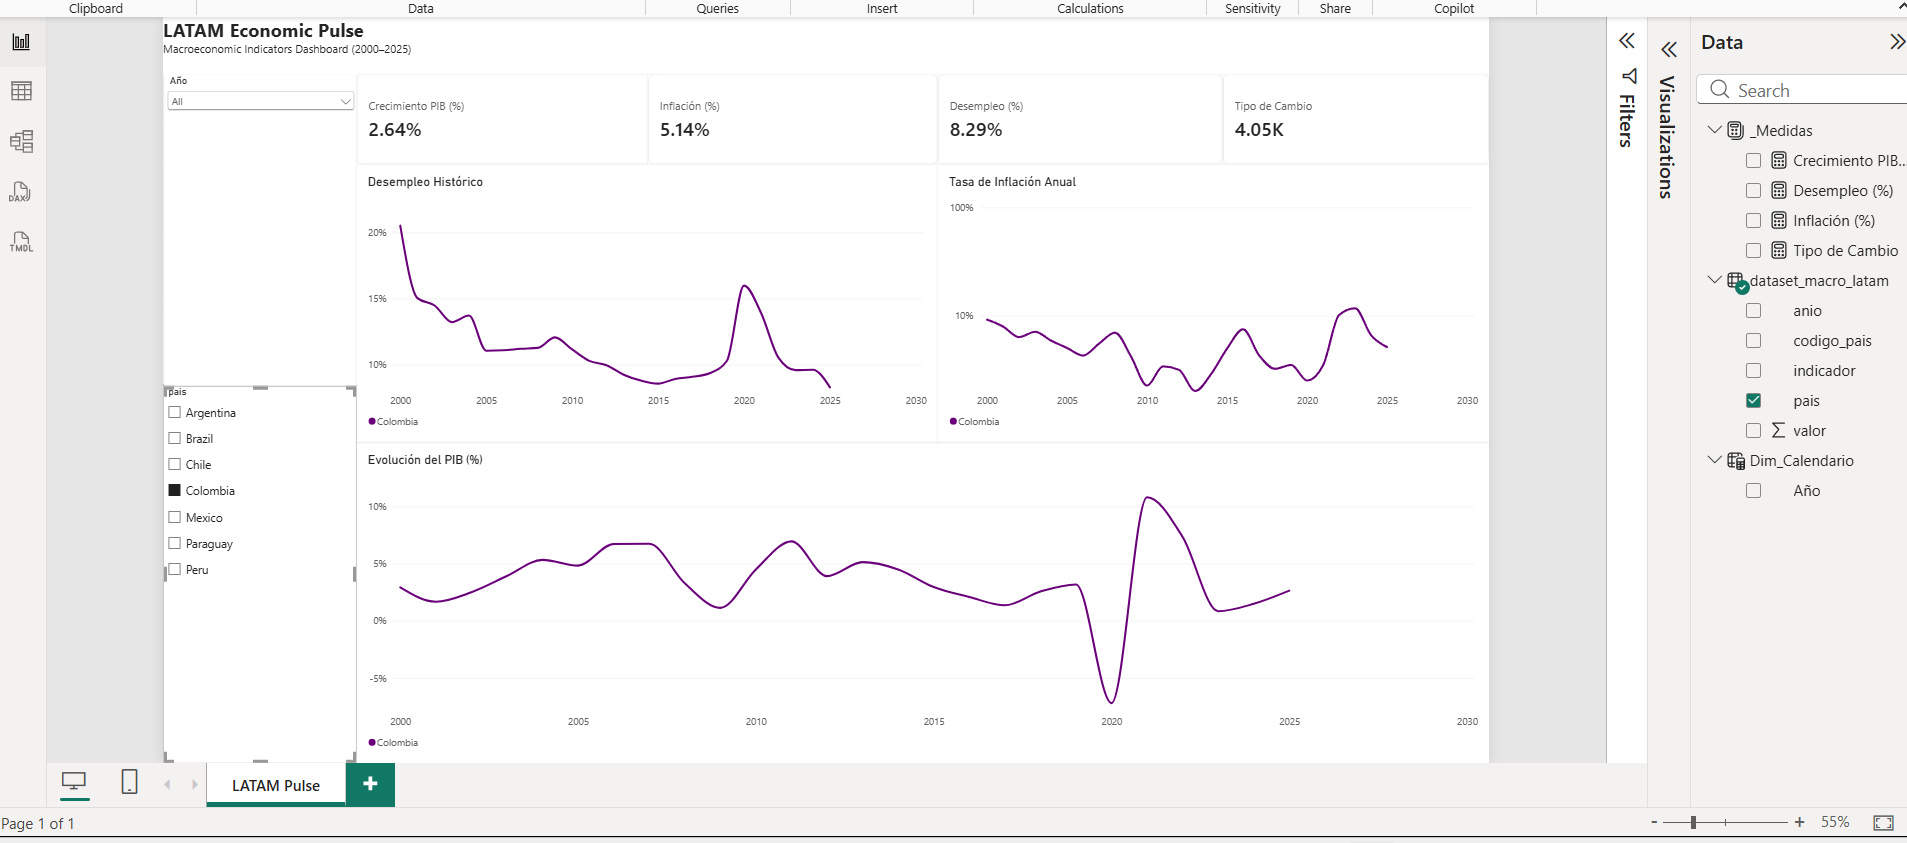

The dashboard page shown, as its layout file describes it:
{"tool":"powerbi","page":{"name":"LATAM Pulse","canvas":[1920,1080],"ordinal":0},"visuals":[{"type":"slicer","fields":{"Values":["dataset_macro_latam.pais"]},"box":[0,533.8,280.5,546.5],"z":0},{"type":"slicer","title":"YEAR","fields":{"Values":["Dim_Calendario.Año"]},"box":[1.8,83.2,280.5,450.6],"z":1},{"type":"lineChart","title":"Evolución del PIB (%)","fields":{"Category":["Dim_Calendario.Año"],"Y":["_Medidas.Crecimiento PIB (%)"],"Series":["dataset_macro_latam.pais"]},"box":[280.5,615.3,1639.6,465.1],"z":6},{"type":"textbox","box":[0,0,1920.1,83.2],"z":7},{"type":"cardVisual","fields":{"Data":["_Medidas.Crecimiento PIB (%)"]},"box":[280.5,83.2,437.9,130.3],"z":8},{"type":"cardVisual","fields":{"Data":["_Medidas.Inflación (%)"]},"box":[702.1,83.2,419.8,130.3],"z":9},{"type":"cardVisual","fields":{"Data":["_Medidas.Desempleo (%)"]},"box":[1122,83.2,412.6,130.3],"z":10},{"type":"cardVisual","fields":{"Data":["_Medidas.Tipo de Cambio"]},"box":[1534.6,83.2,385.5,130.3],"z":11},{"type":"lineChart","title":"Desempleo Histórico","fields":{"Category":["Dim_Calendario.Año"],"Series":["dataset_macro_latam.pais"],"Y":["_Medidas.Desempleo (%)"]},"box":[280.5,213.5,841.5,401.7],"z":12},{"type":"lineChart","title":"Tasa de Inflación Anual","fields":{"Category":["Dim_Calendario.Año"],"Series":["dataset_macro_latam.pais"],"Y":["_Medidas.Inflación (%)"]},"box":[1122,213.5,798.1,401.7],"z":13}]}

Visuals, with their boxes in screenshot pixels (x1, y1, x2, y2):
slicer - dataset_macro_latam.pais: 159,383,391,836
"YEAR" slicer: 160,9,393,383
"Evolución del PIB (%)" lineChart: 391,450,1750,836
textbox: 159,0,1750,9
cardVisual - _Medidas.Crecimiento PIB (%): 391,9,754,117
cardVisual - _Medidas.Inflación (%): 741,9,1089,117
cardVisual - _Medidas.Desempleo (%): 1089,9,1431,117
cardVisual - _Medidas.Tipo de Cambio: 1431,9,1750,117
"Desempleo Histórico" lineChart: 391,117,1089,450
"Tasa de Inflación Anual" lineChart: 1089,117,1750,450
